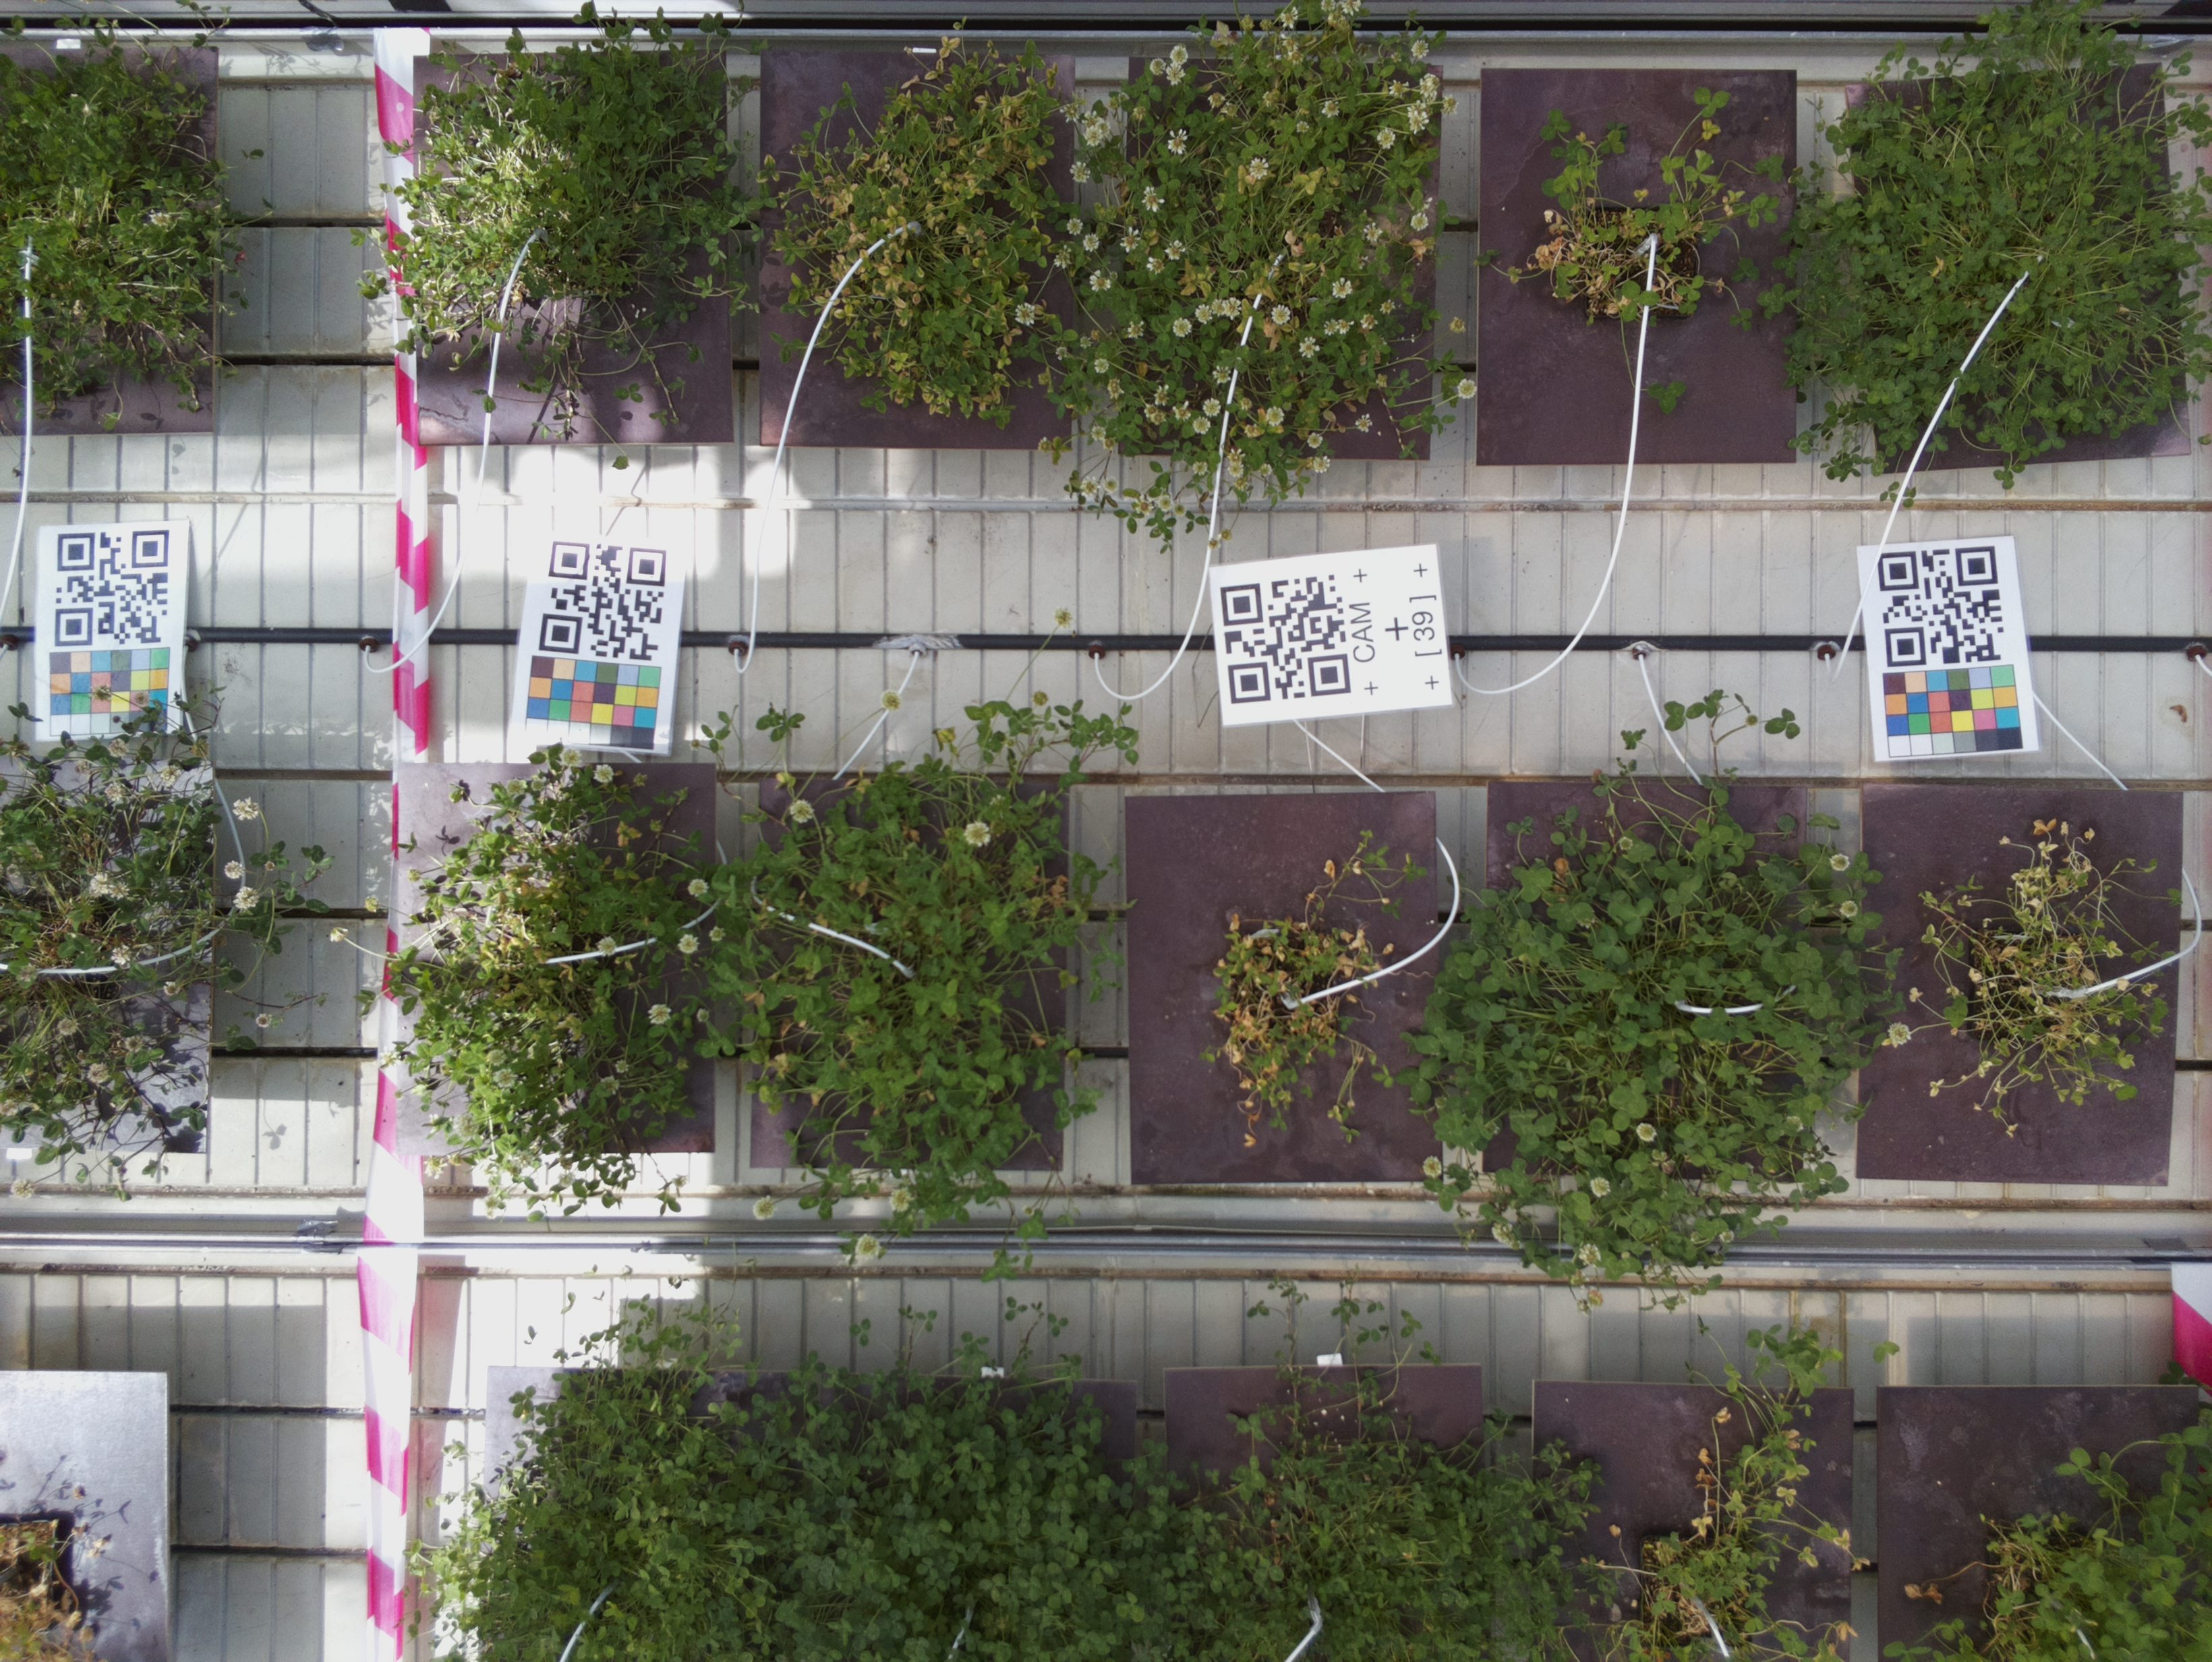POT: (1845, 79, 2193, 463), (1123, 54, 1447, 461), (1489, 779, 1812, 1178), (396, 761, 716, 1157), (412, 56, 733, 445), (1479, 72, 1795, 466), (1859, 786, 2170, 1185), (756, 772, 1067, 1170), (1121, 793, 1435, 1180), (763, 51, 1067, 449)
QRCODE: (1206, 553, 1461, 728)
QRCOLOR: (1858, 541, 2044, 756), (517, 538, 684, 747), (35, 525, 182, 737)
